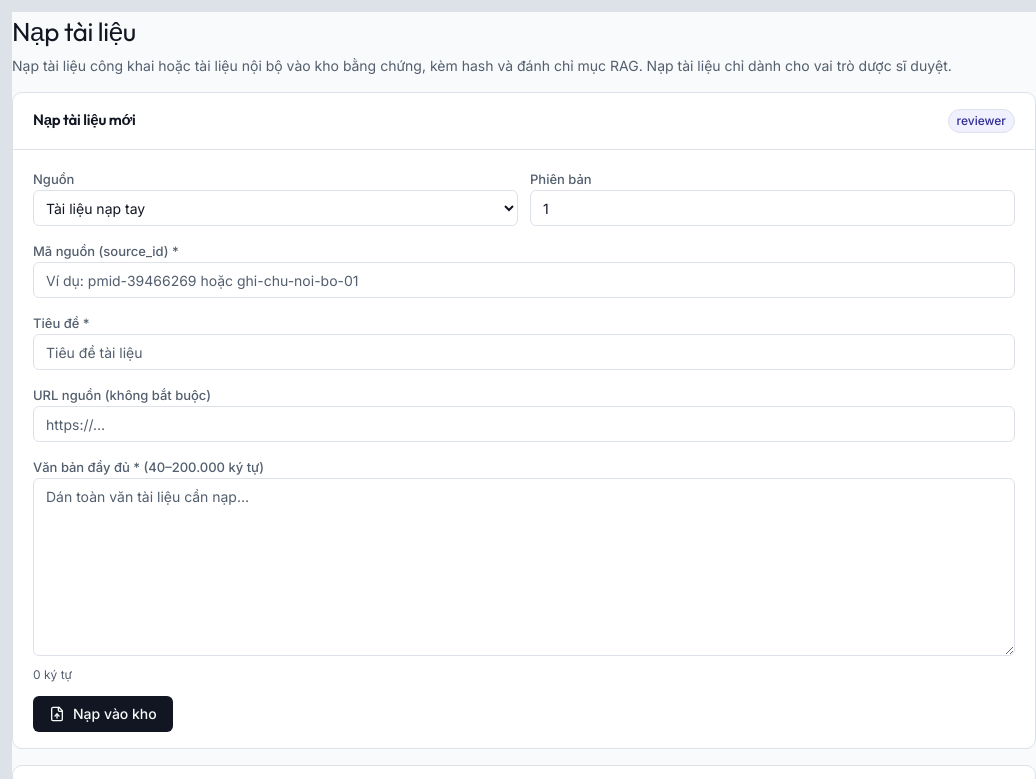
Test: /admin/ingestion — gửi biểu mẫu › thiếu mã nguồn và tiêu đề thì chặn tại chỗ, không gửi lên kho
Click the button "Nạp vào kho": [103, 714] box [33,696,173,732]
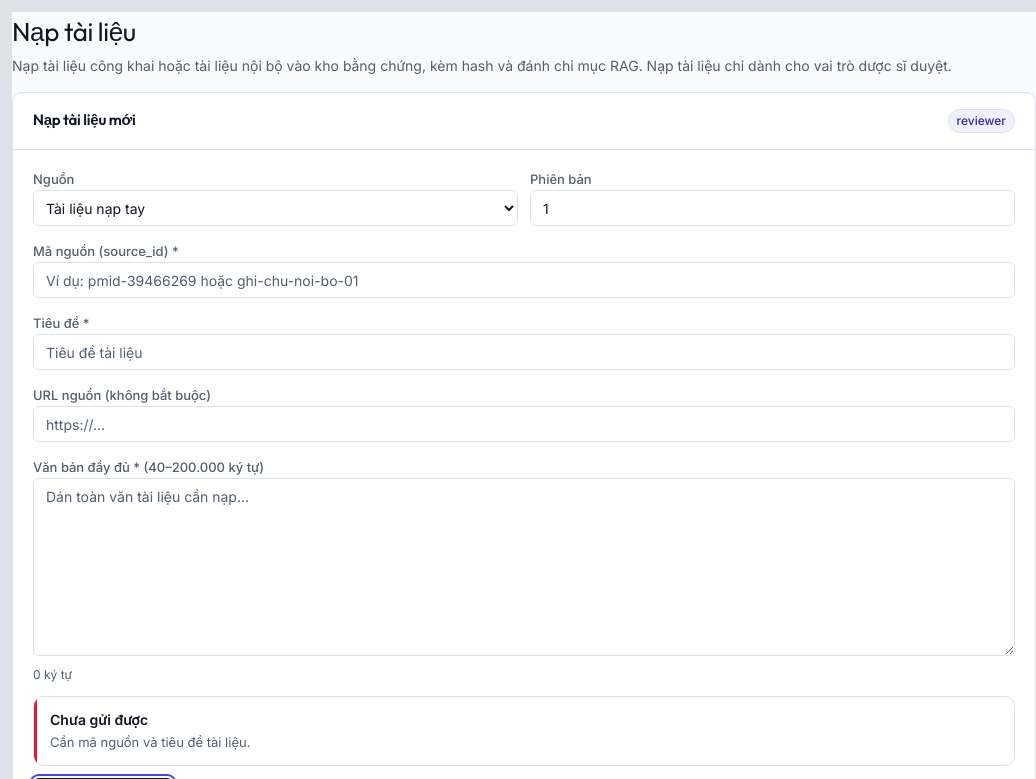
Check: the text "Cần mã nguồn và tiêu đề tài liệu." is shown, box [50,734,250,750]
Check: the text "Chưa gửi được" is shown, box [50,711,148,728]
